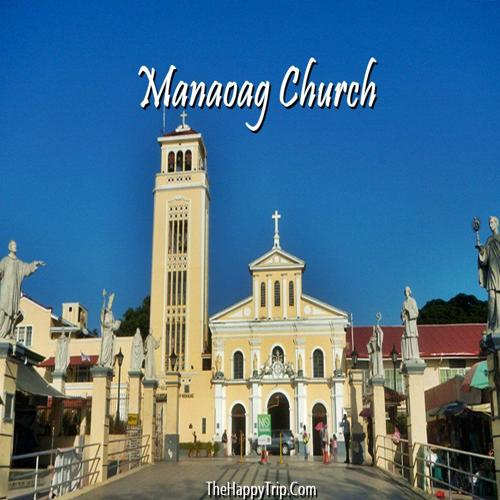Manaoag Church: (125, 108, 353, 468)
